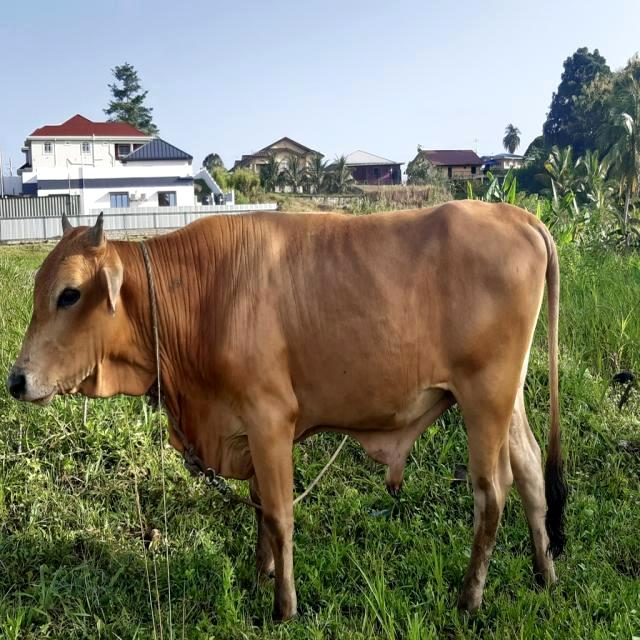COW: (9, 201, 566, 618)
